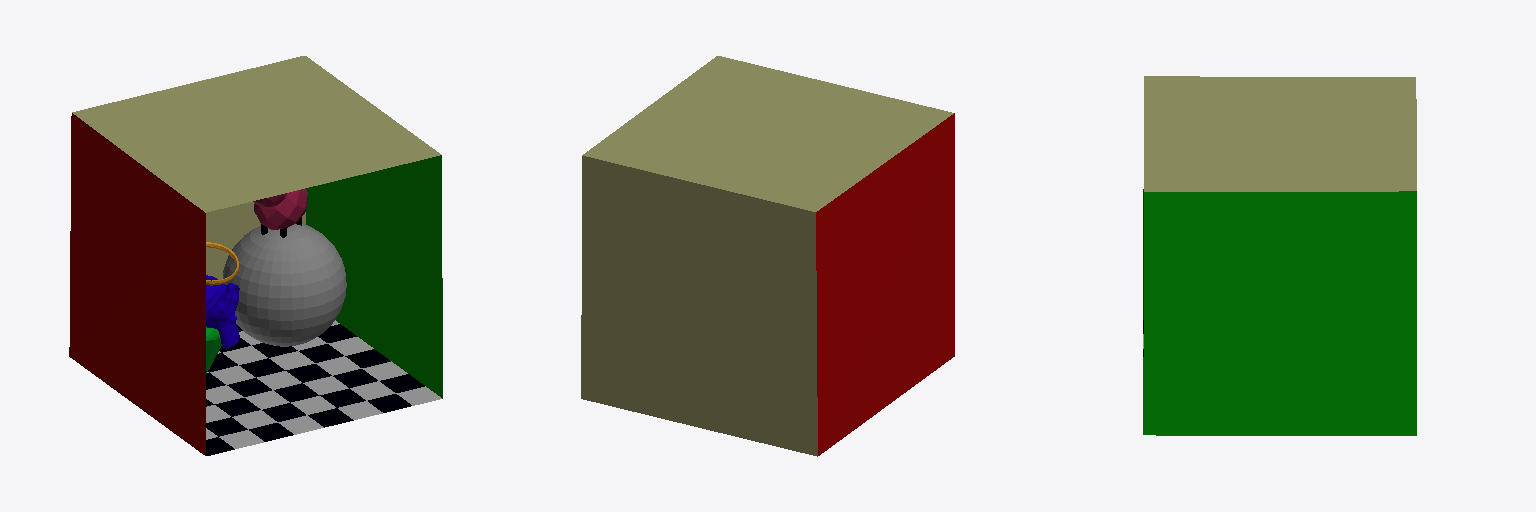
Rendered from 3dscene-checkerboard.obj.
The picture shows the model from 3 angles: view 1: azimuth 30°, elevation 25°; view 2: azimuth 150°, elevation 25°; view 3: azimuth 270°, elevation 25°; orthographic projection.
Visible parts, largest first — view 1: Torus, Sphere, Torus.002, Torus.008; view 2: Torus; view 3: Torus.
Part boxes in pixels (x1,y1,x2,y2): Torus: (69, 56, 442, 455); Sphere: (223, 224, 346, 346); Torus.002: (206, 275, 239, 348); Torus.008: (253, 188, 308, 237); Torus: (581, 56, 954, 456); Torus: (1143, 76, 1416, 435).
Bounding box in the file's own units: 4.3 × 4.22 × 4.29.